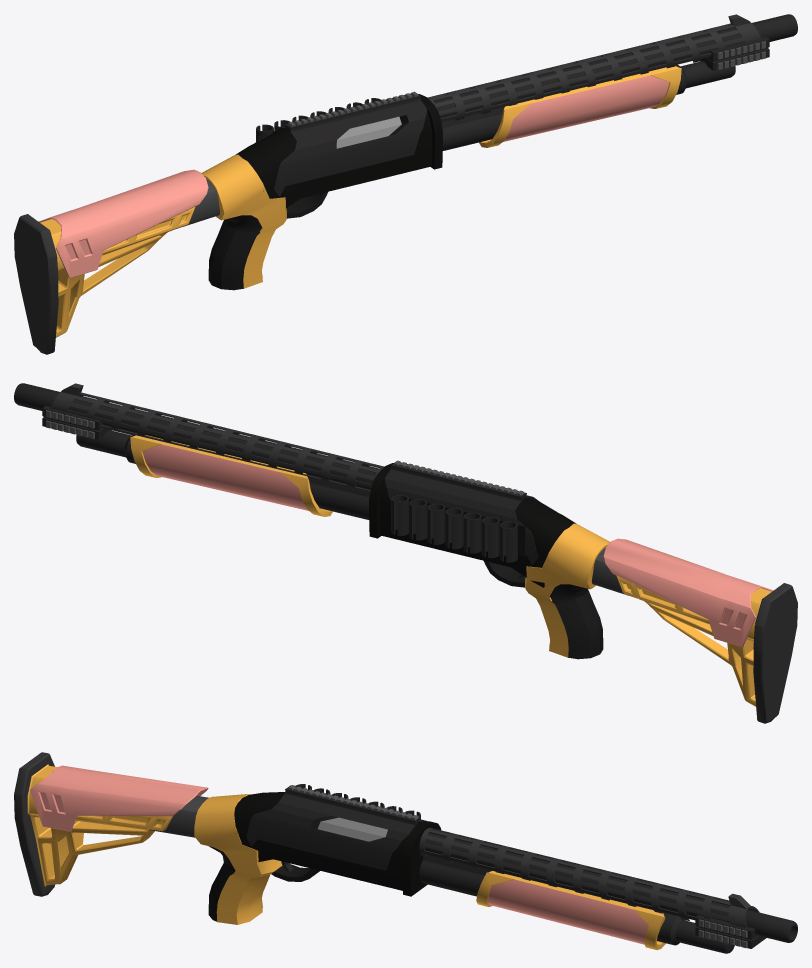
The model's file is Mossberg_500_SWAT_Mesh.fbx.
The picture shows the model from 3 angles, top to bottom: view 1: azimuth 30°, elevation 25°; view 2: azimuth 150°, elevation 25°; view 3: azimuth 330°, elevation 25°; orthographic projection.
Parts seen in each view (by area): view 1: Mossberg_500_SWAT; view 2: Mossberg_500_SWAT; view 3: Mossberg_500_SWAT.
Boxes of the visible parts, x1,y1,x2,y2 form: Mossberg_500_SWAT: (14,14,797,354); Mossberg_500_SWAT: (14,383,797,723); Mossberg_500_SWAT: (14,752,797,953).
Bounding box in the file's own units: 0.8266 × 0.1742 × 0.077.
